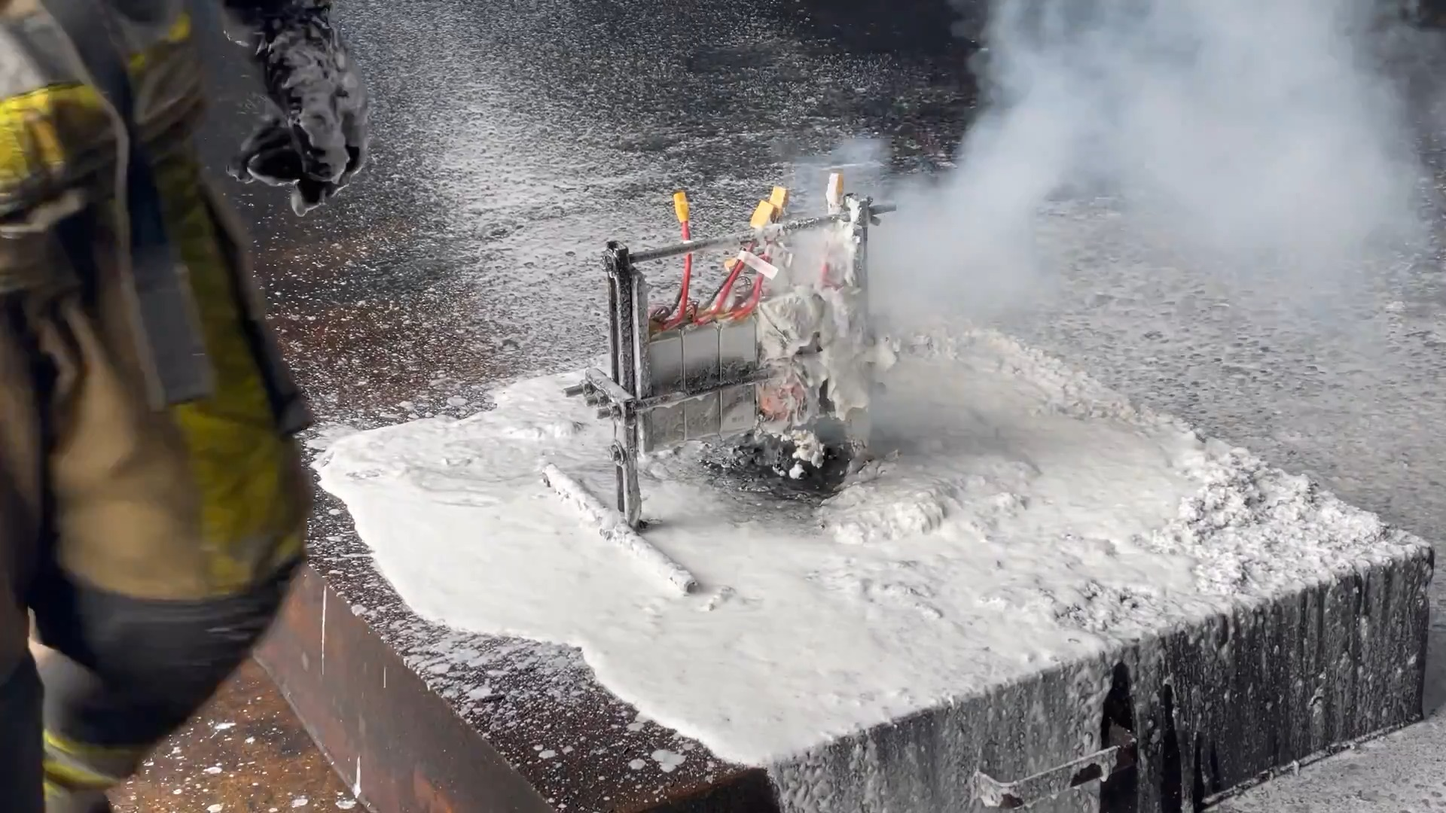smoke: (825, 0, 1433, 437)
